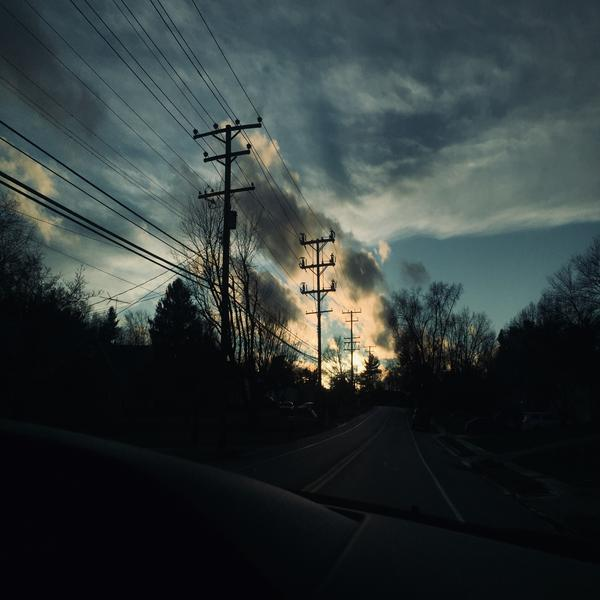utility_pole: (184, 110, 270, 217), (293, 224, 342, 312), (339, 302, 363, 346)
